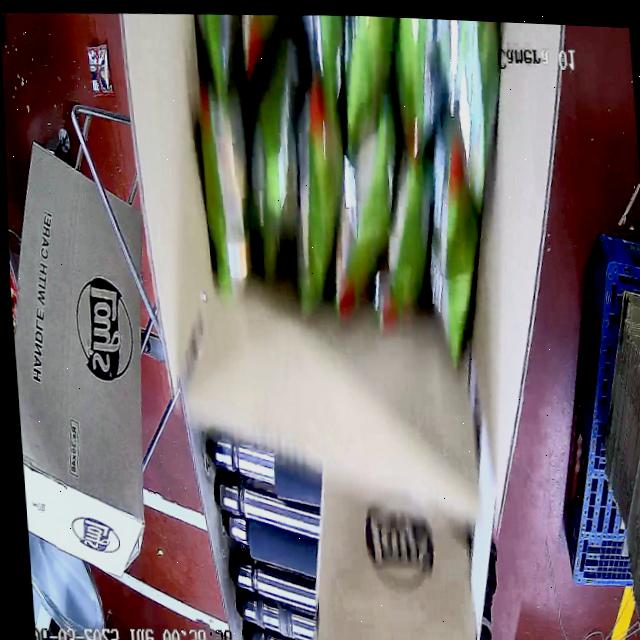YOGURT_HERB: (186, 8, 513, 362)
